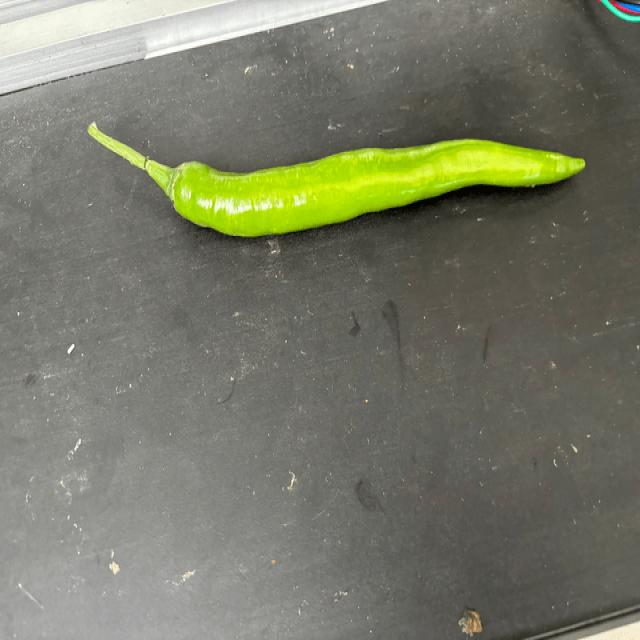chili: (168, 138, 586, 238)
